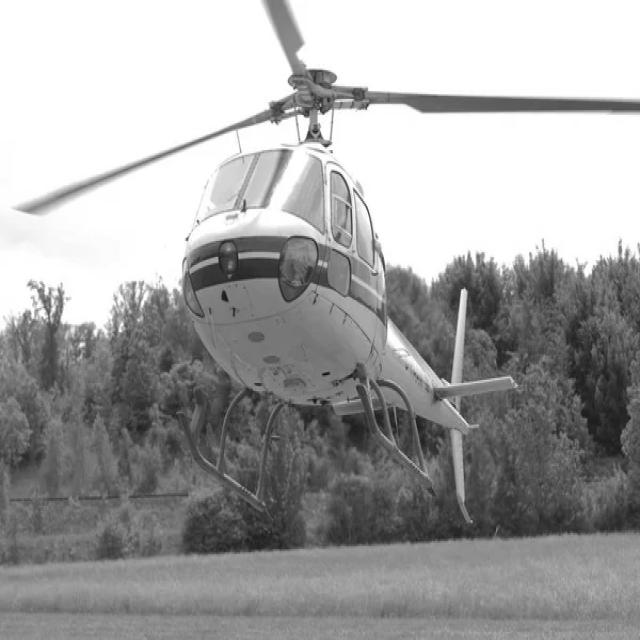Helicopter: (15, 0, 639, 500)
